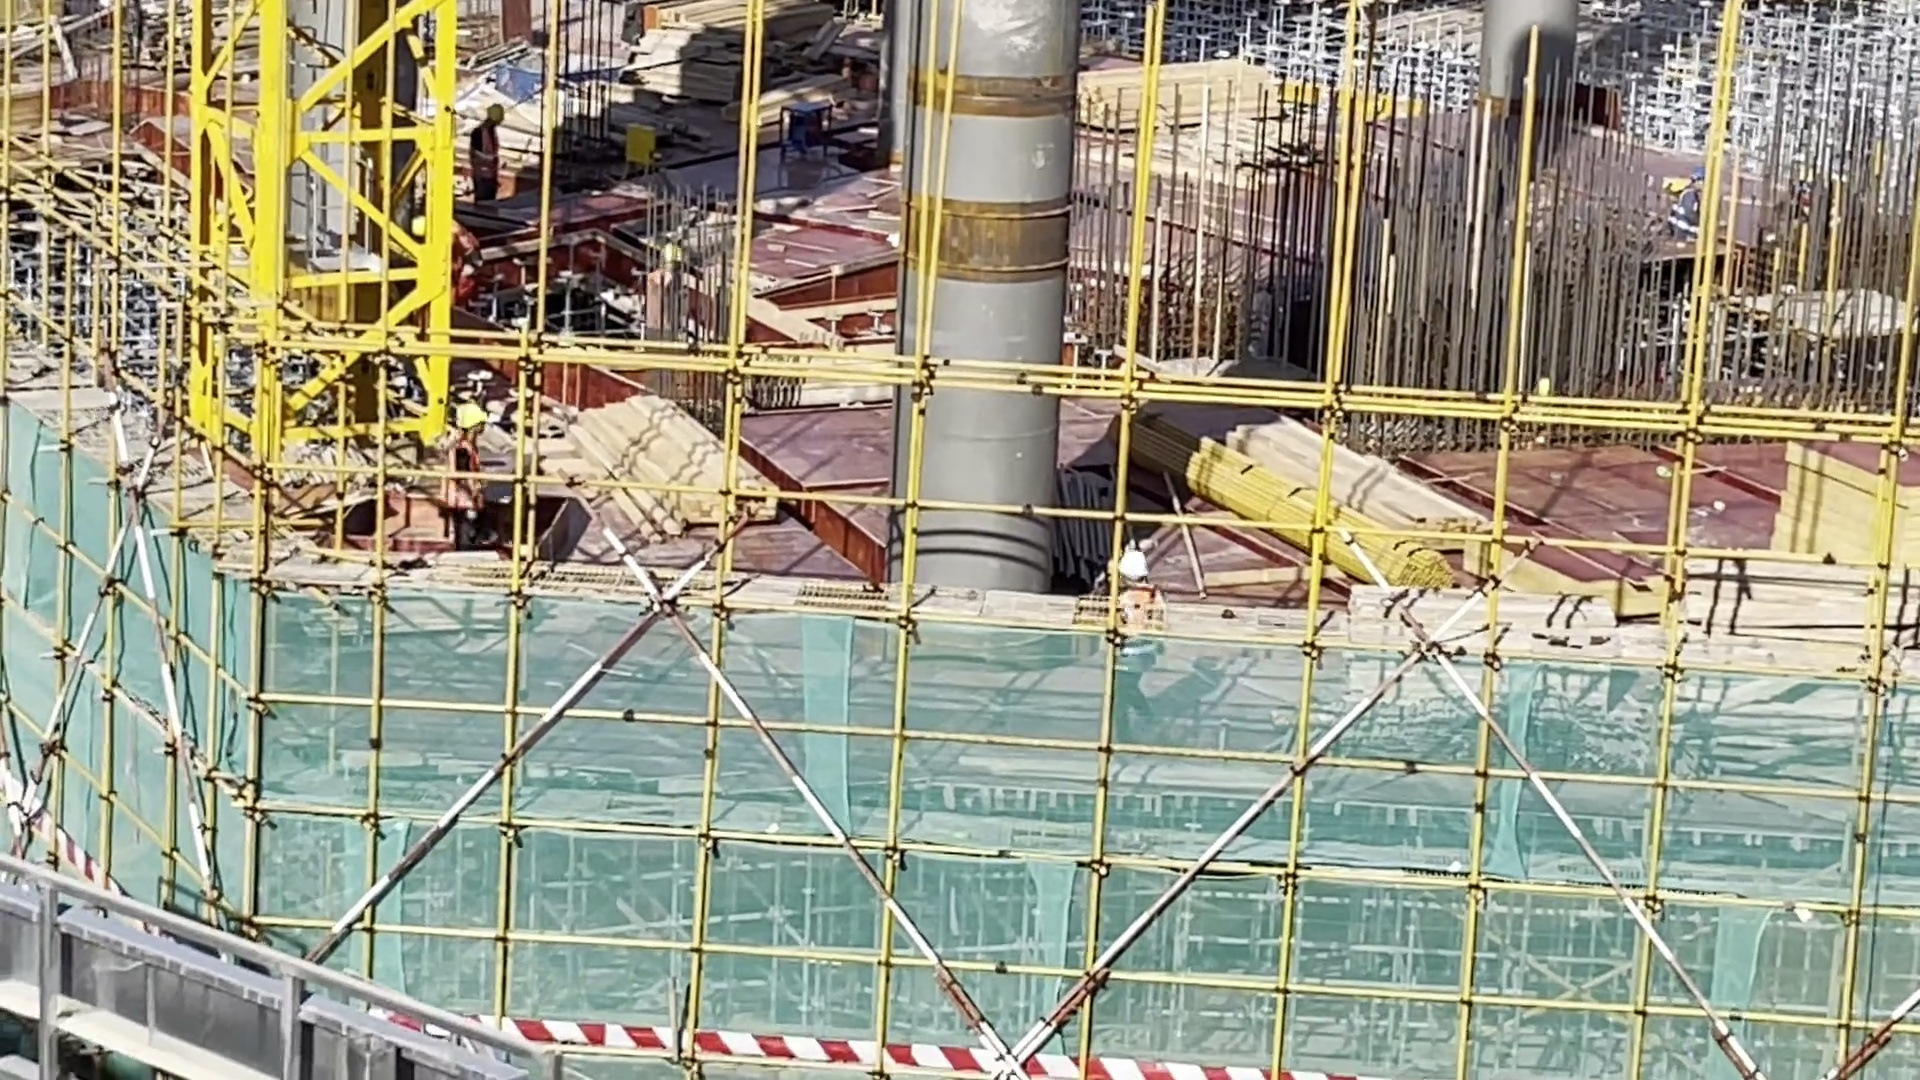board: (1782, 438, 1920, 563), (638, 1, 751, 97)
person: (469, 107, 509, 197)
wood: (1192, 419, 1501, 585), (563, 395, 778, 531)
